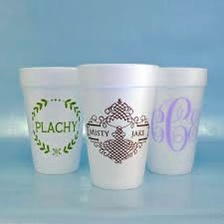paper_cup: (72, 57, 163, 193), (13, 61, 97, 177), (128, 61, 211, 178)
